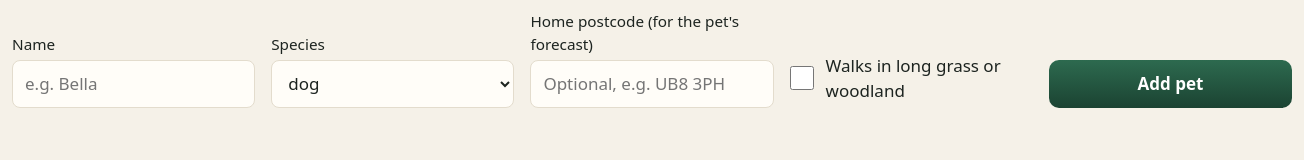
Test case: PetForm › shows an error from the server, such as an unknown postcode
Type "Bella" into the field labelled "Name".
click(134, 84); type("Bella")  # box [12,60,255,108]
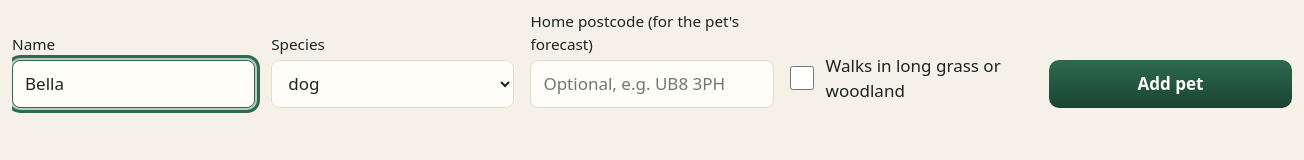
Click the button "Add pet".
click(1170, 84)  # box [1049,60,1292,108]
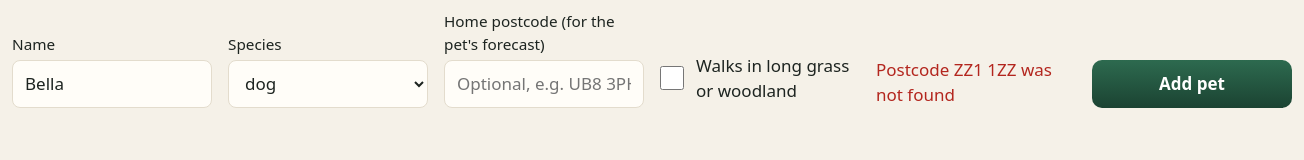
Result: the message reads "Postcode ZZ1 1ZZ was not found" at [876,58,1052,106]
